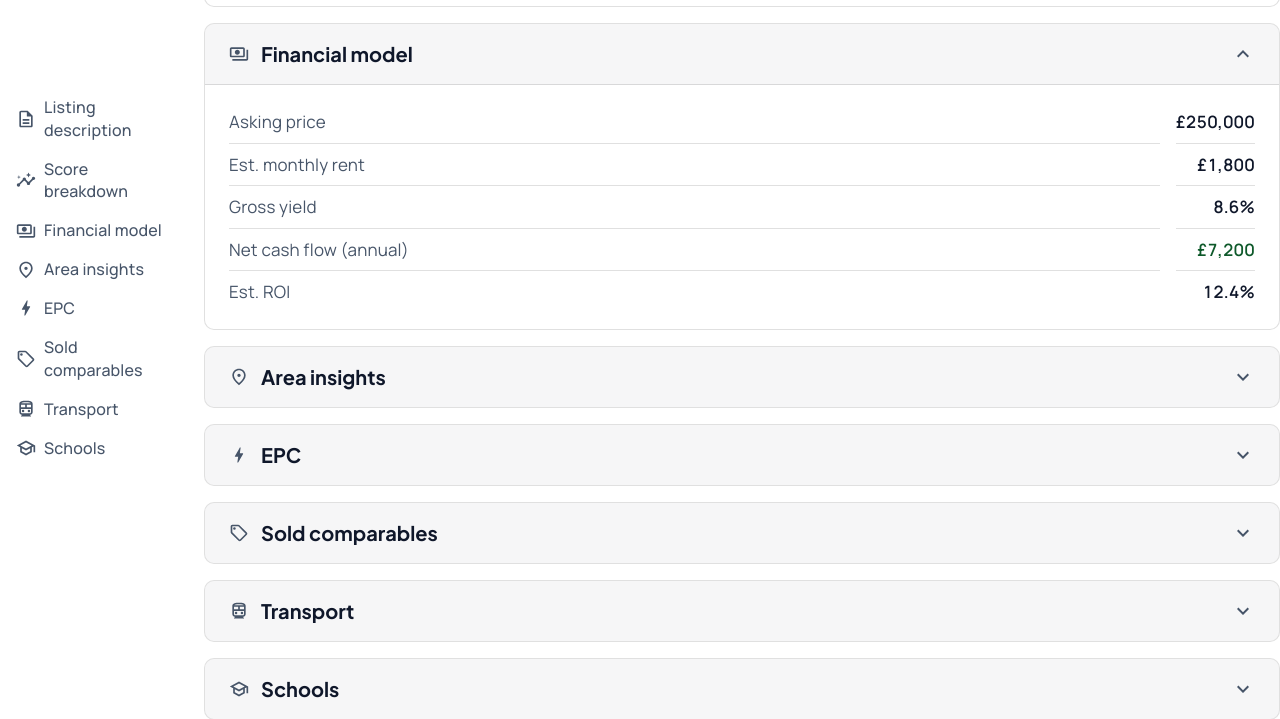
DealReport › keeps a closed section out of the DOM until it is opened
(page scrolled)
Expected: the text "Asking price" is shown, top-left (229, 101), bottom-right (1160, 144)
Expected: the text "Current rating" is not shown
Click the button "EPC". click: [281, 454]
box: top-left (205, 425), bottom-right (1279, 485)
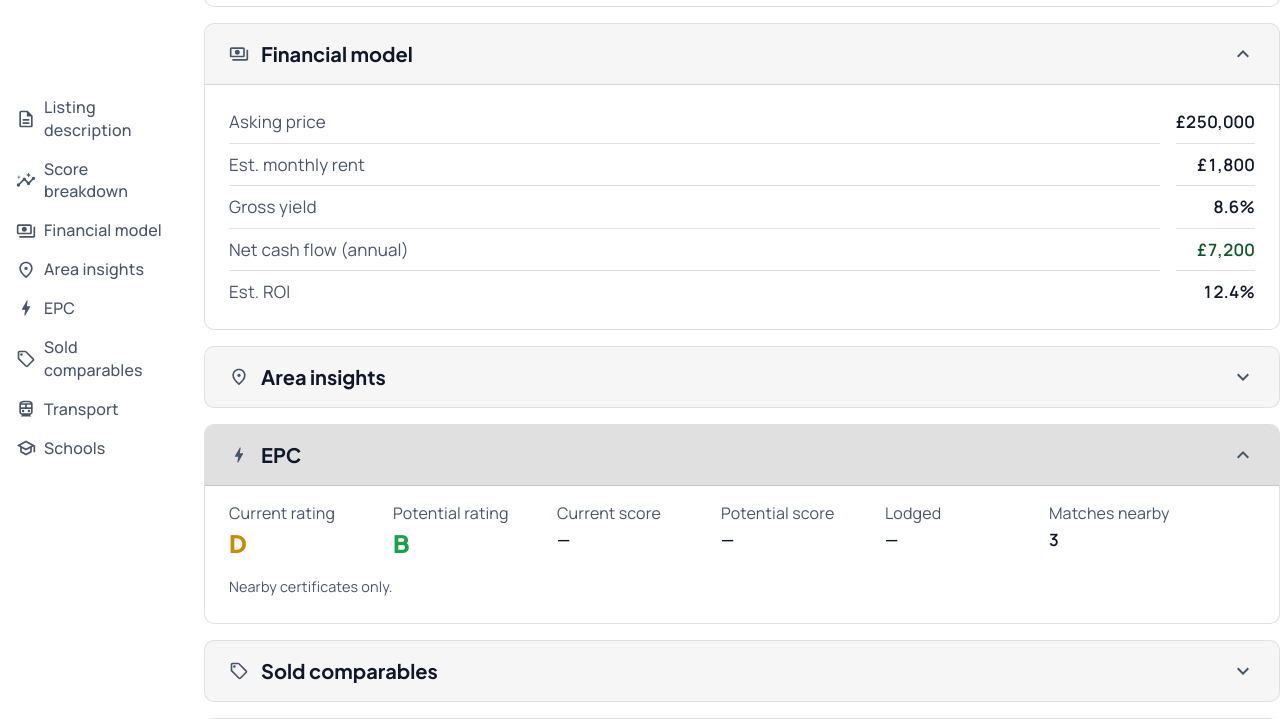
Result: the text "Current rating" is shown at top-left (229, 502), bottom-right (335, 524)
